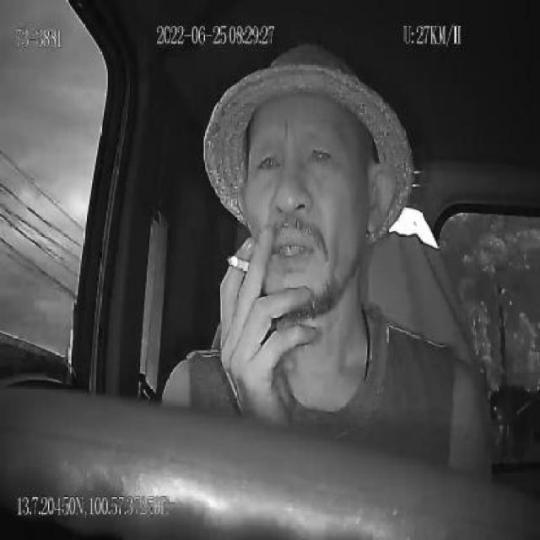smoking: (227, 251, 251, 275)
